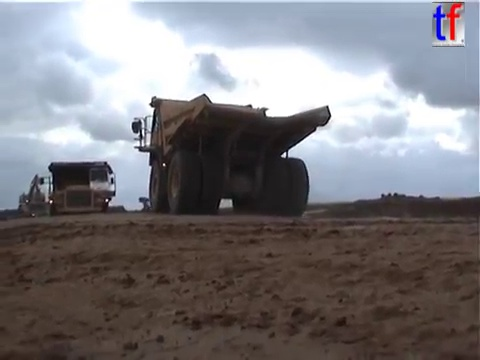excavator: (16, 171, 56, 219)
truck: (129, 91, 336, 218), (37, 158, 119, 223)
